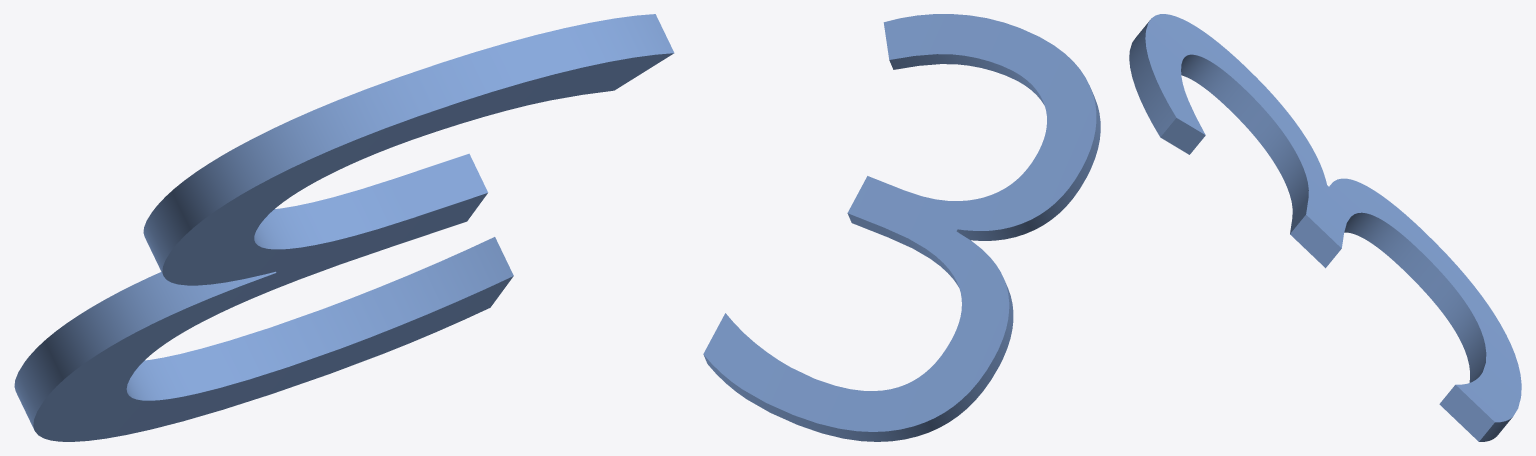
File: New_Number_3.gltf
3 renders of one model, left to right at view 1: azimuth 30°, elevation 25°; view 2: azimuth 150°, elevation 25°; view 3: azimuth 270°, elevation 25°, orthographic. The views are drawn at different scales.
Parts seen in each view (by area): view 1: Part 363; view 2: Part 363; view 3: Part 363.
Part boxes in pixels (x1,y1,x2,y2): Part 363: (14,14,674,441); Part 363: (703,14,1100,441); Part 363: (1129,14,1521,441).
Bounding box in the file's own units: 0.00363 × 0.00384 × 0.00387.
